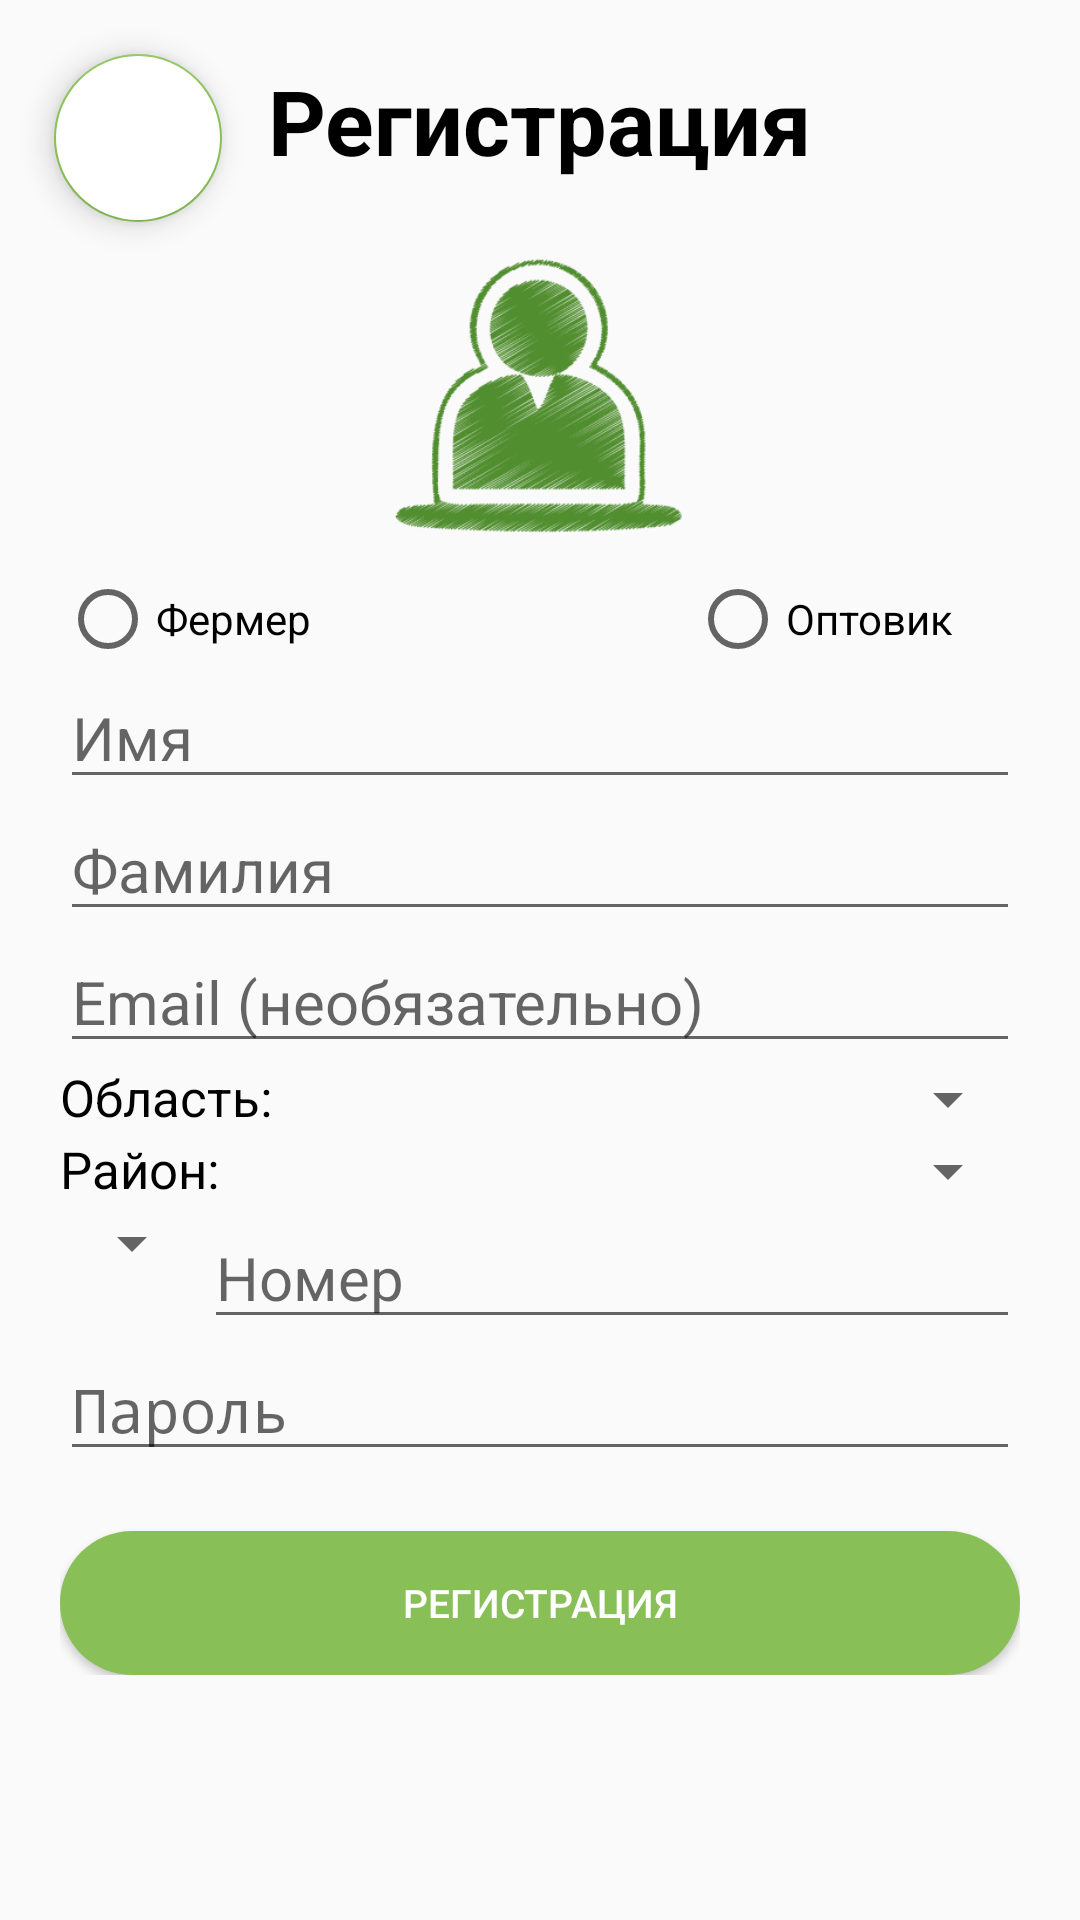

Where icons sit on this 1080 × 1920 app screen, as (x1, y1, x2, y2):
user: (395, 259, 682, 532)
